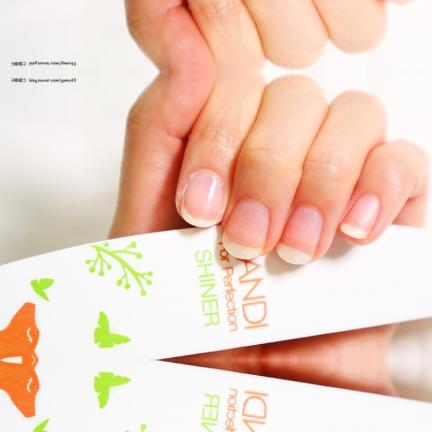Nail: (276, 203, 324, 265), (222, 199, 270, 260), (180, 169, 225, 228), (340, 193, 381, 240)
